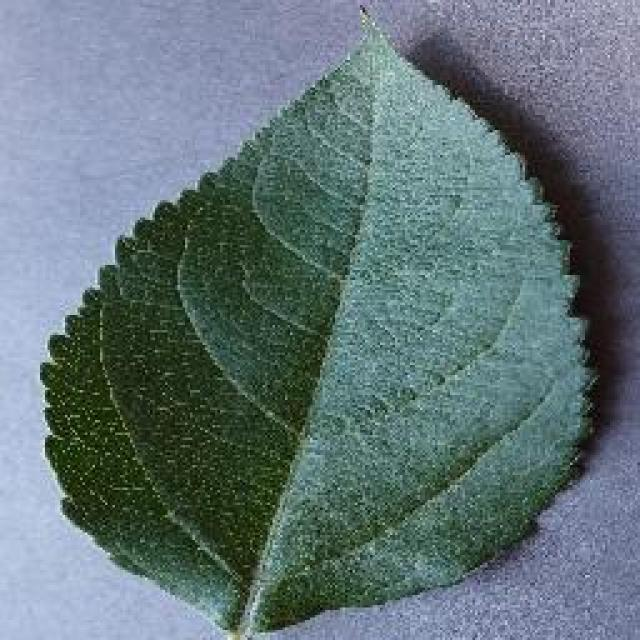apple healthy: (38, 2, 600, 638)
